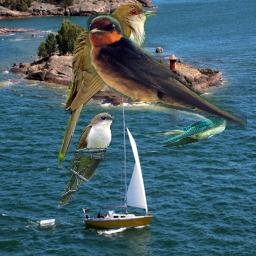Cuckoo: (58, 1, 157, 168), (57, 111, 116, 207)
Swallow: (86, 12, 247, 127), (144, 109, 231, 148)
